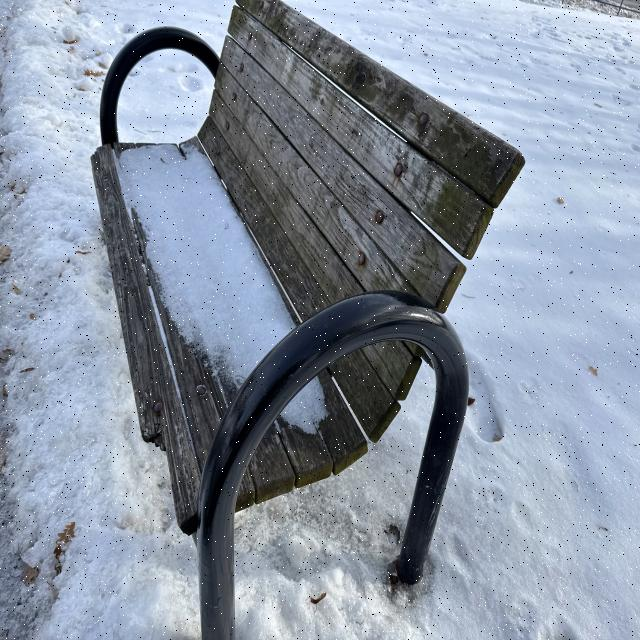Bench: (91, 16, 469, 604)
